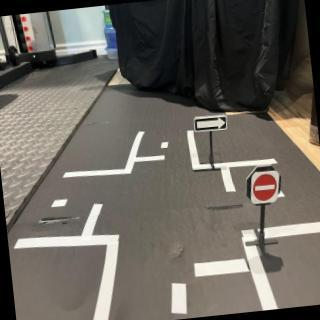sign_noentry: (249, 171, 282, 206)
sign_oneway_right: (194, 114, 229, 135)
